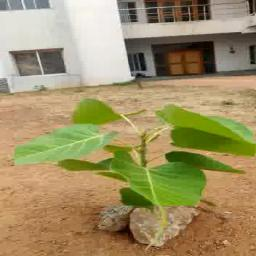LEAVS: (15, 76, 255, 206)
